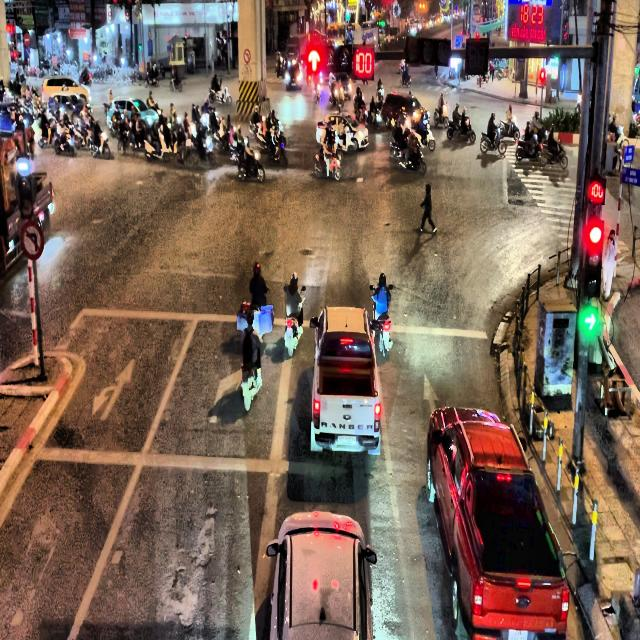CAR: (426, 406, 570, 640), (265, 510, 377, 640), (309, 305, 381, 456), (376, 92, 430, 134), (316, 112, 369, 153), (106, 98, 160, 134), (45, 92, 91, 124), (329, 72, 352, 100), (284, 60, 302, 90)
MOTORBIKE: (369, 284, 393, 358), (241, 360, 262, 412), (237, 148, 265, 182), (398, 143, 426, 175), (446, 115, 476, 144), (479, 124, 506, 155), (541, 138, 568, 169), (144, 133, 172, 162), (515, 130, 542, 160), (314, 152, 341, 180), (266, 133, 288, 167), (192, 134, 215, 166), (54, 126, 76, 156), (176, 136, 197, 166), (89, 130, 110, 159), (38, 119, 57, 149), (498, 116, 520, 140), (433, 102, 449, 128), (399, 66, 411, 86), (145, 70, 159, 86), (220, 86, 232, 104), (170, 75, 182, 92)
